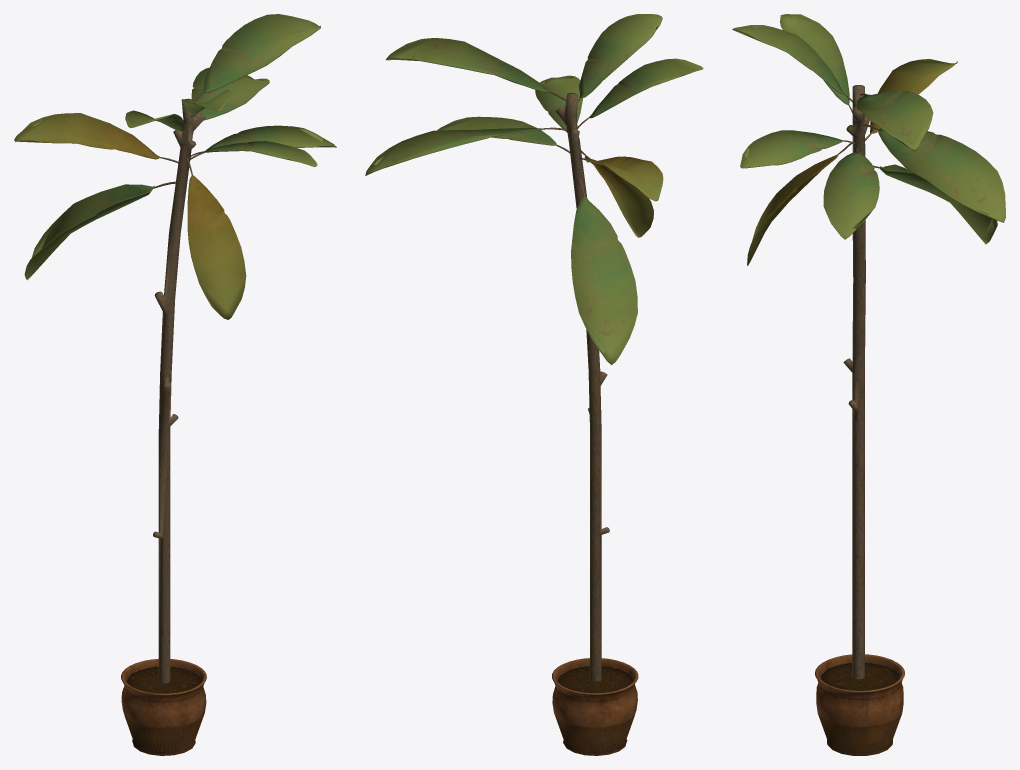
Rendered from Plant01.fbx.
The picture shows the model from 3 angles, left to right: view 1: azimuth 30°, elevation 25°; view 2: azimuth 150°, elevation 25°; view 3: azimuth 270°, elevation 25°; orthographic projection. The views are drawn at different scales.
Visible parts, largest first — view 1: Plant01; view 2: Plant01; view 3: Plant01.
Part boxes in pixels (bbox=[...]): Plant01: bbox=[14, 14, 336, 755]; Plant01: bbox=[365, 14, 703, 755]; Plant01: bbox=[732, 14, 1005, 755].
Bounding box in the file's own units: 139 × 315 × 109.
Materials: 1 (1 with a texture image).
